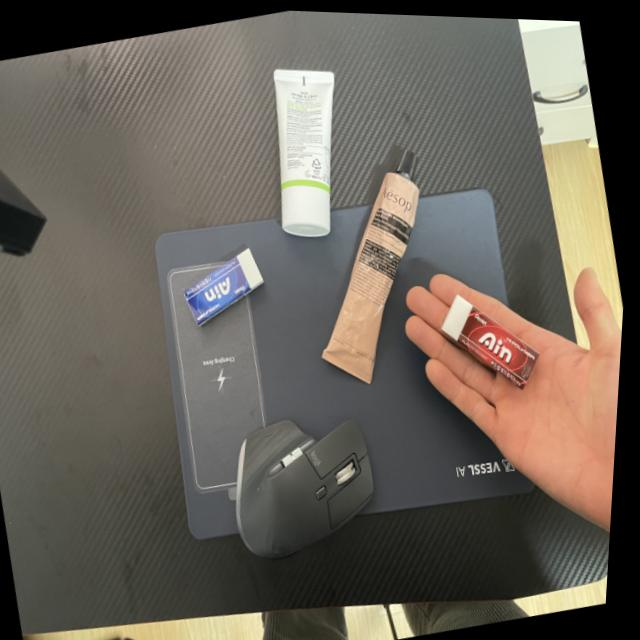blue: (171, 234, 280, 336)
red: (432, 273, 556, 407)
